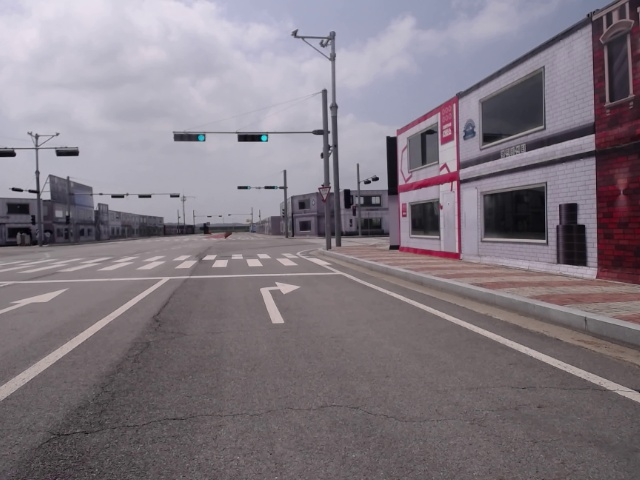straight_green_4: (237, 131, 269, 143), (172, 131, 206, 142), (236, 185, 251, 190), (263, 186, 278, 190)
